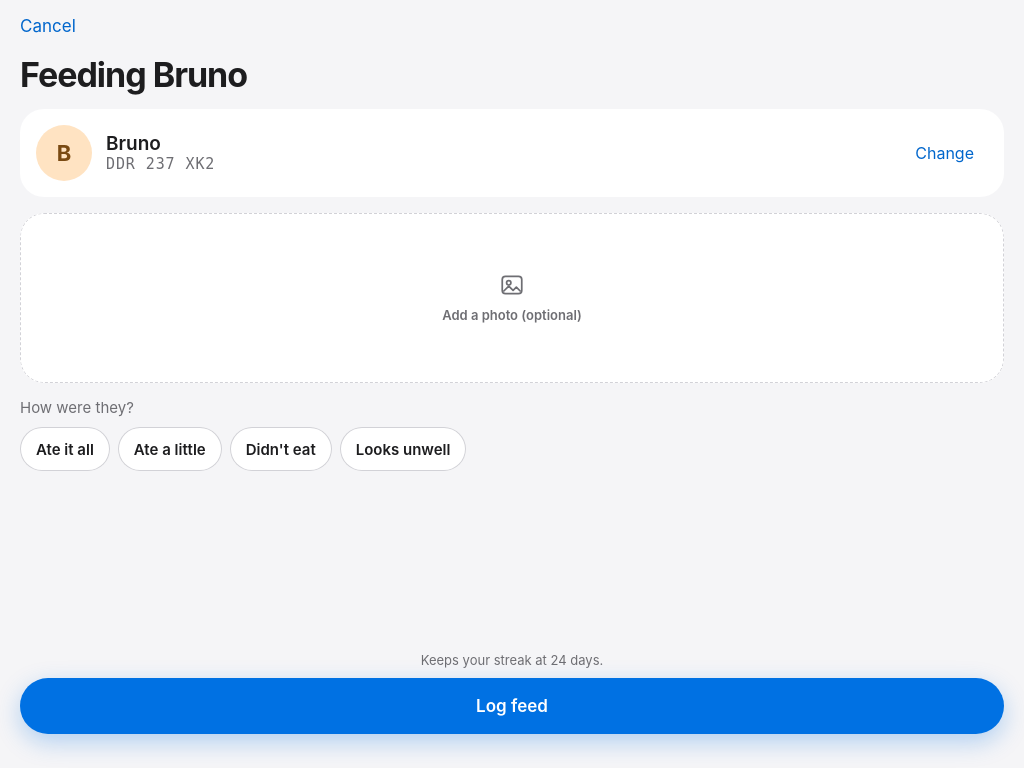
Log a feed › N7 No signal › shows the saved screen: banner, check, title, body, waiting list, SOS note, Scan the next dog
The width and height of the screenshot is (1024, 768).
Click the button "Log feed" at [512, 706], box [20,678,1004,734]
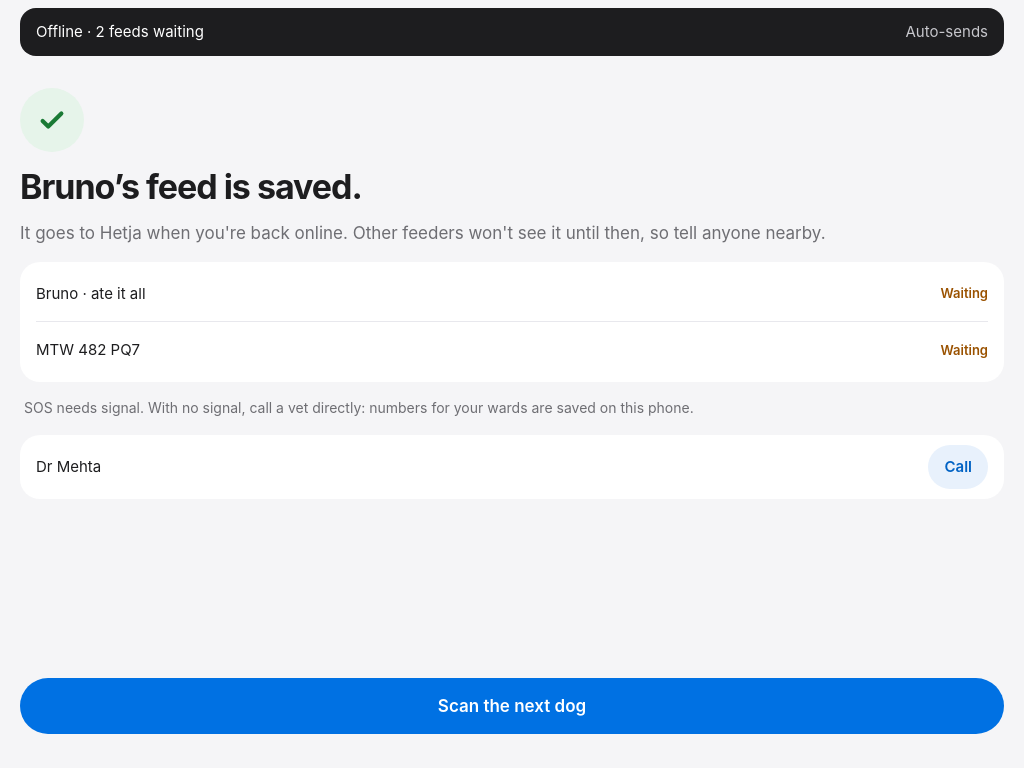
Result: the heading "Bruno’s feed is saved." is shown at [20,166,362,207]
Result: the text "Offline · 2 feeds waiting" is shown at [36,21,204,43]
Result: the text "Auto-sends" is shown at [906,21,988,43]
